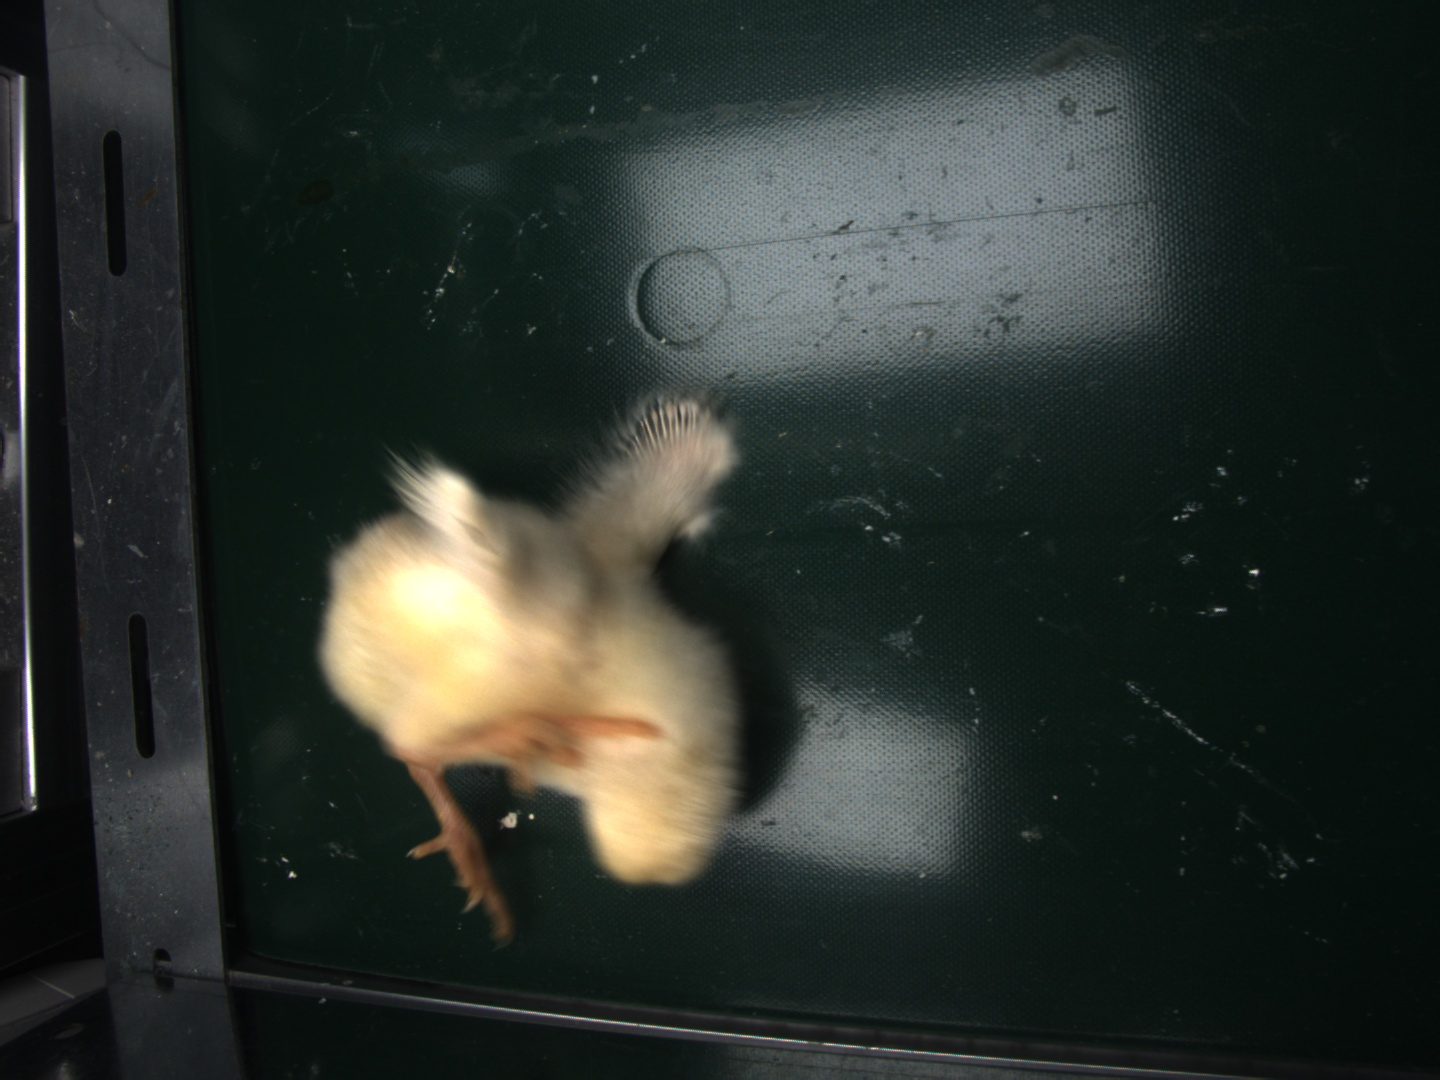male: (624, 397, 702, 457)
